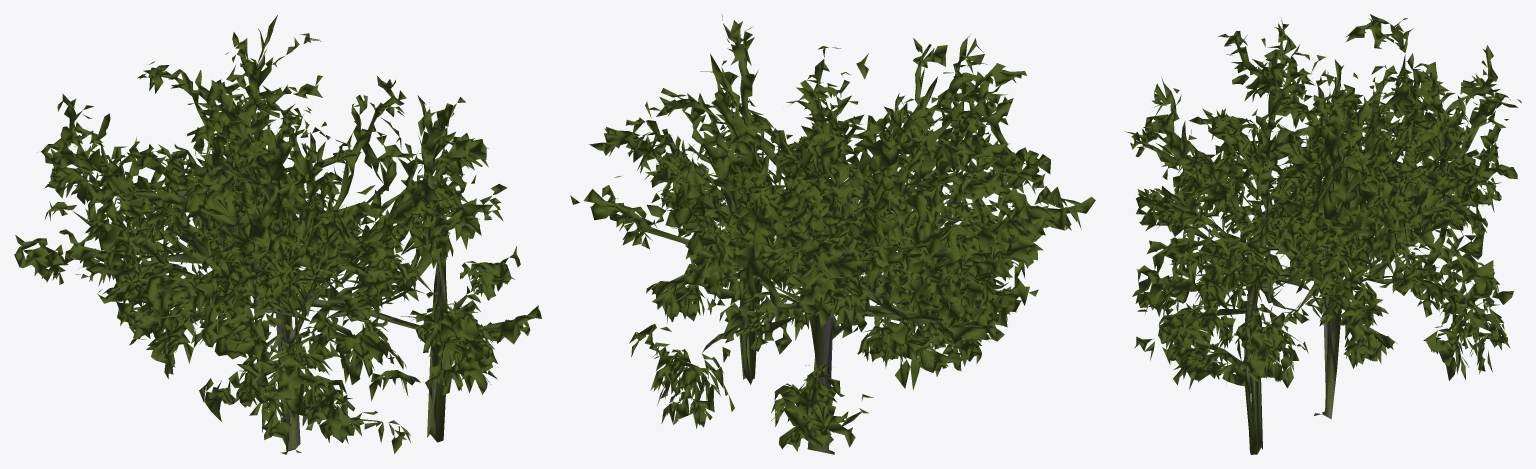
File: cây.glb
3 views of the same model, side by side, from view 1: azimuth 30°, elevation 25°; view 2: azimuth 150°, elevation 25°; view 3: azimuth 270°, elevation 25° (orthographic). The views are drawn at different scales.
Bounding box in the file's own units: 1.84 × 1.58 × 1.59.
1 material, 1 textured.
